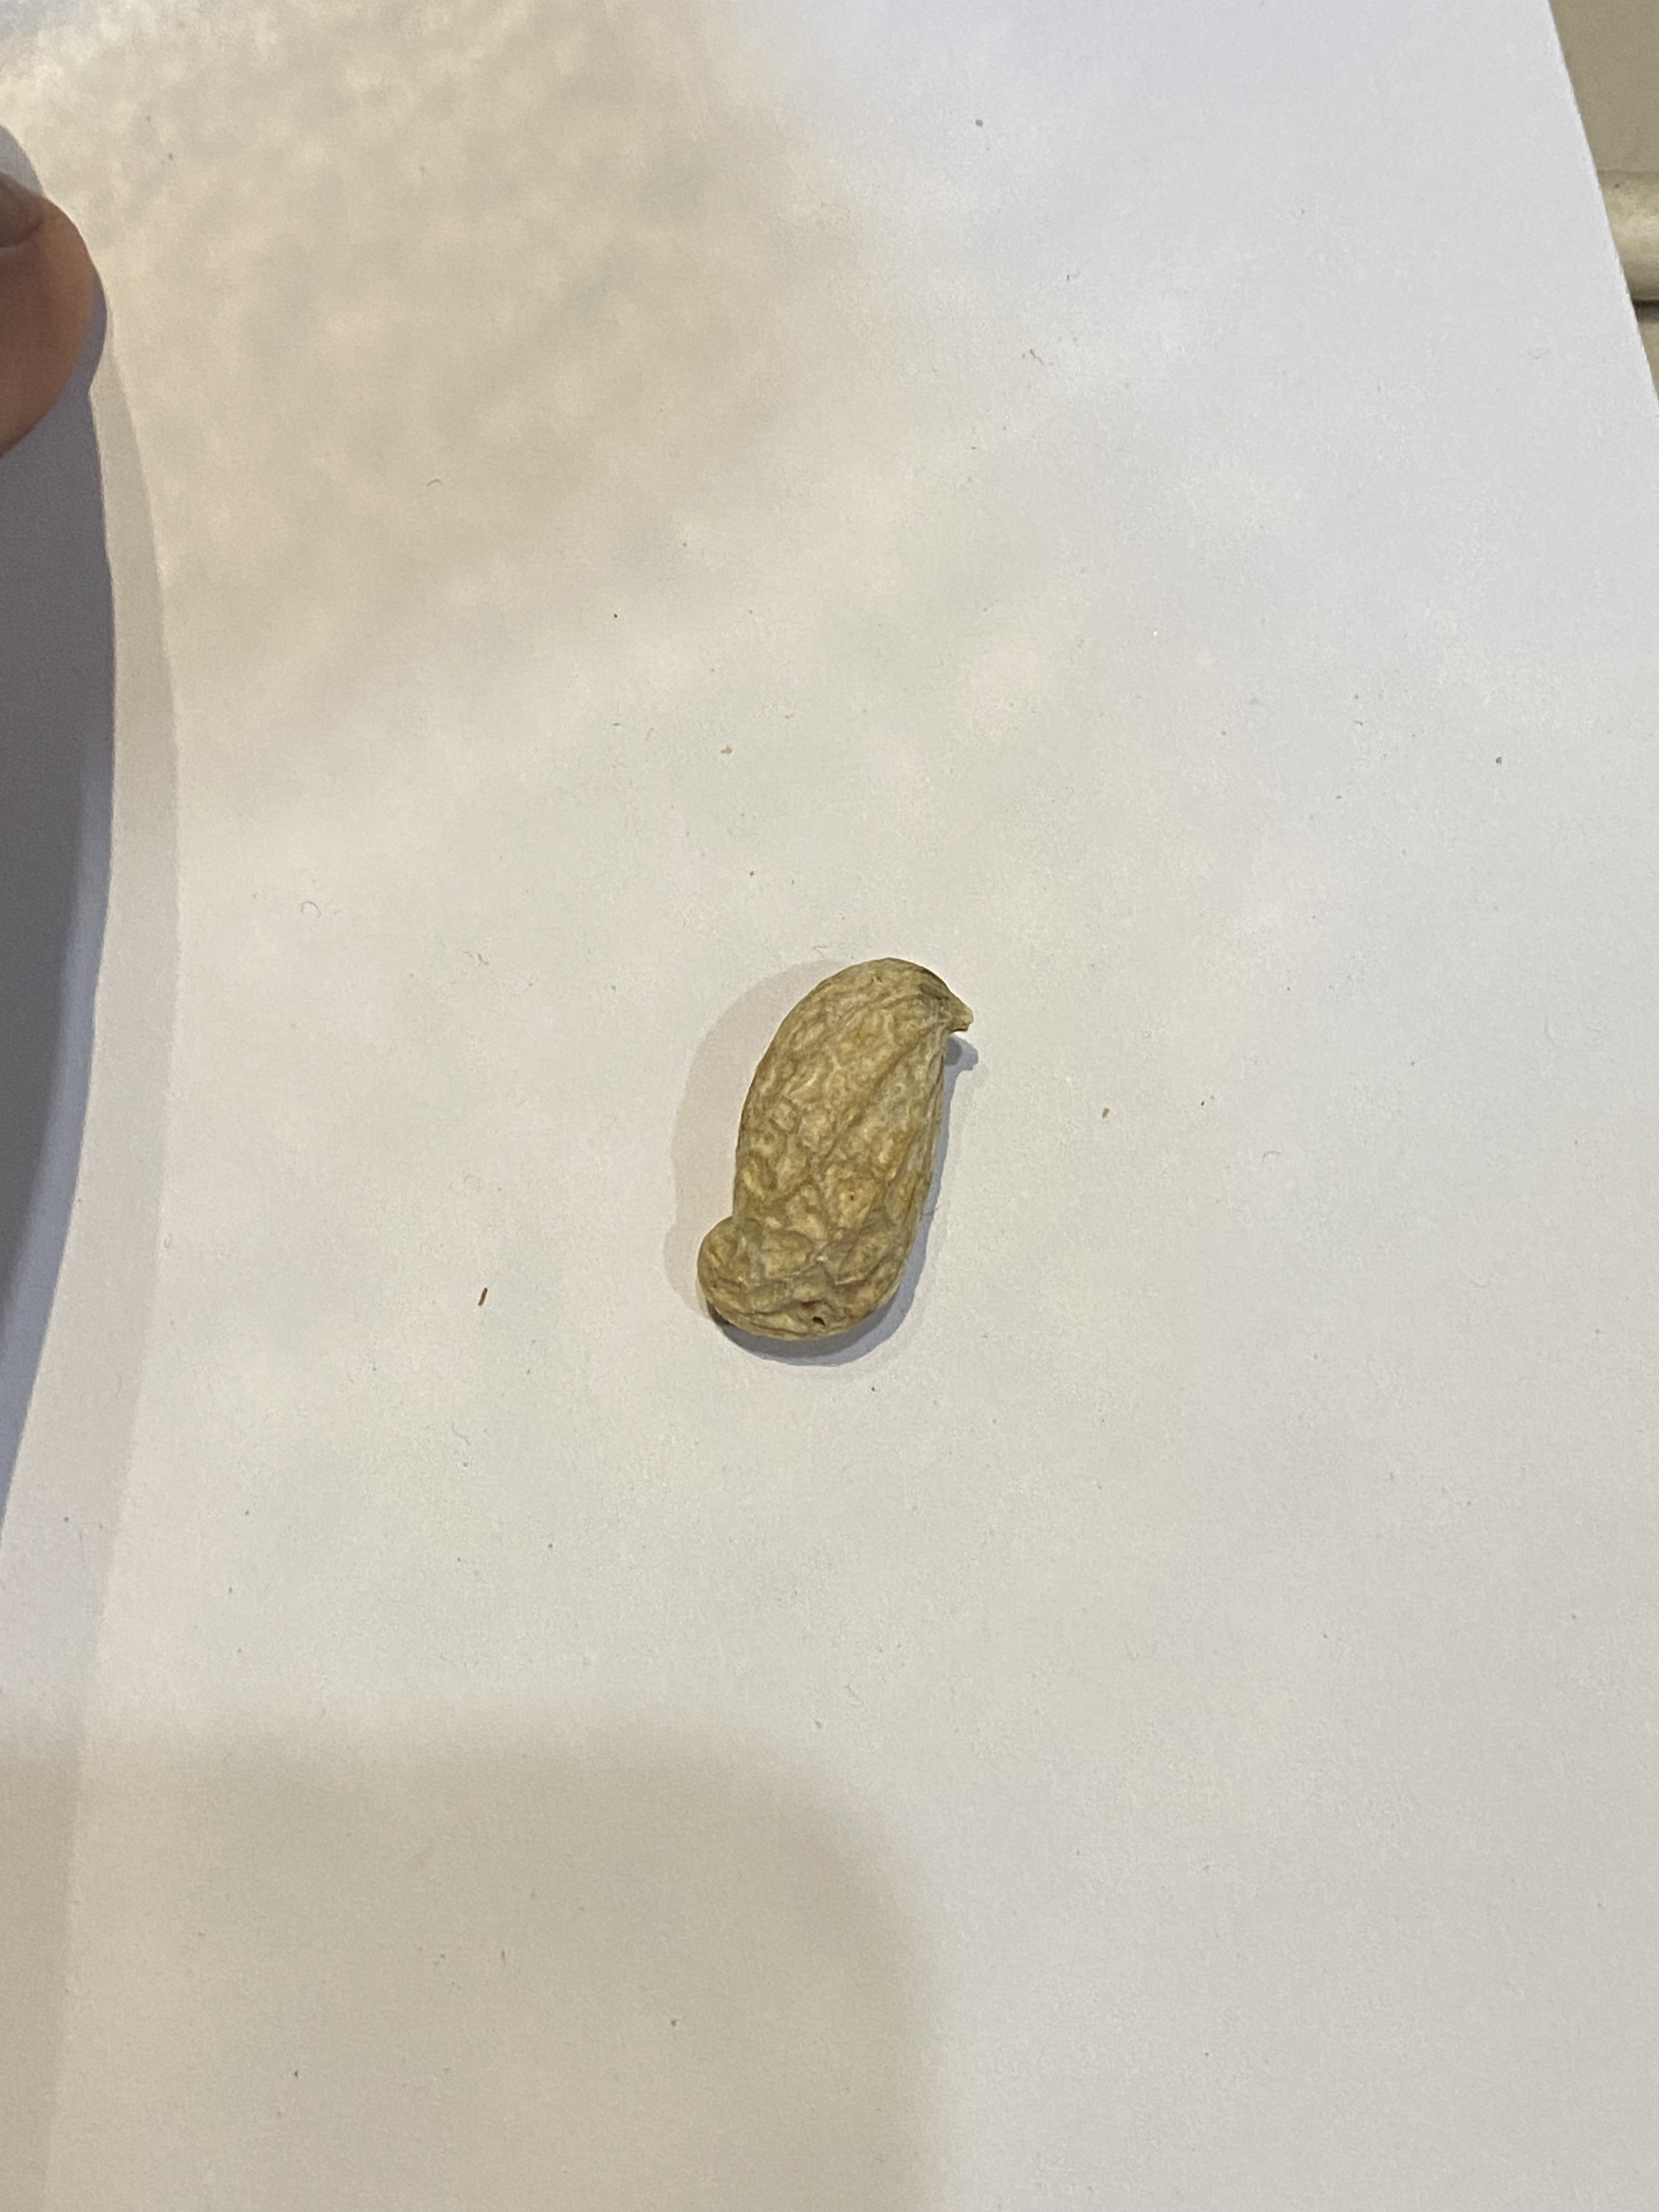kacang1: (673, 932, 988, 1350)
